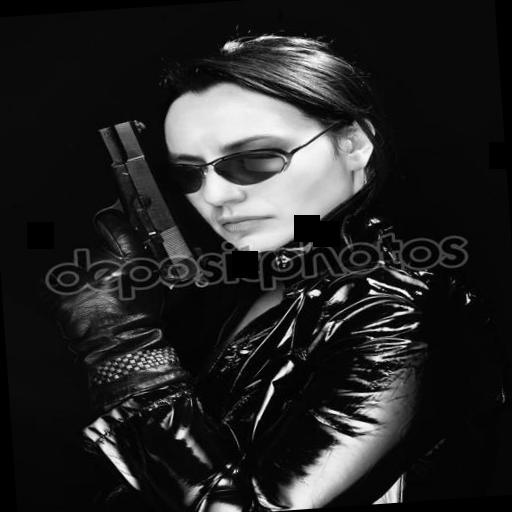Handgun: (58, 113, 223, 294)
